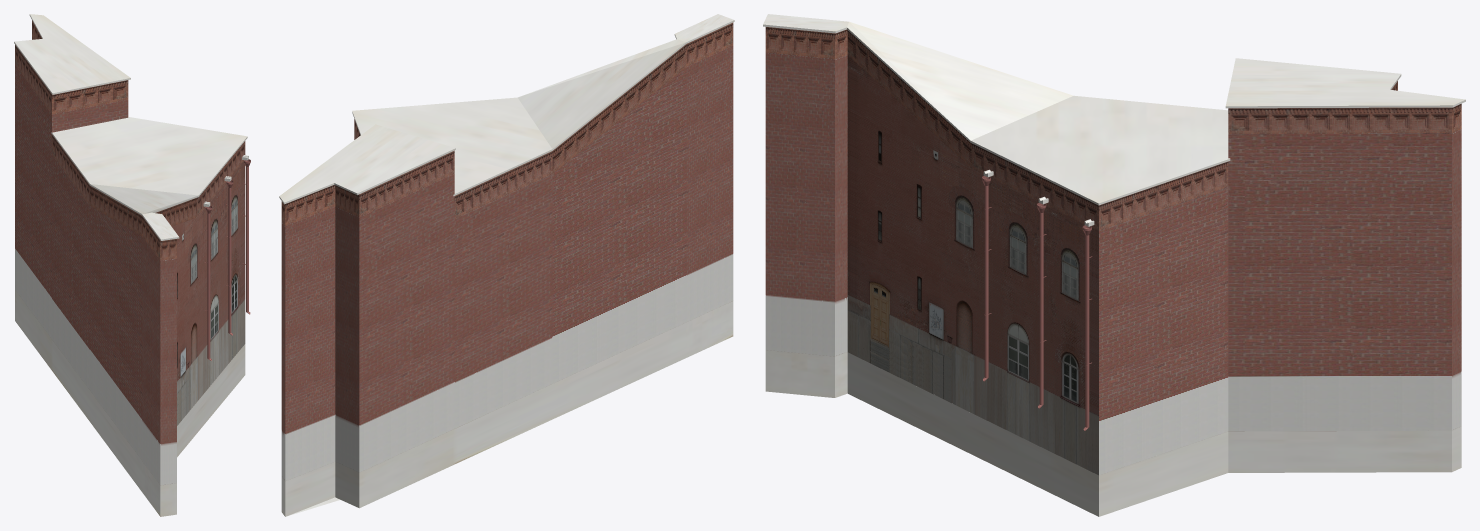
3 renders of one model, left to right at view 1: azimuth 30°, elevation 25°; view 2: azimuth 150°, elevation 25°; view 3: azimuth 270°, elevation 25°, orthographic. The views are drawn at different scales.
Parts seen in each view (by area): view 1: Group_060, Group_035, Group_018, Group_011, Group_002, Group_024, Group_020, Group_016, Group_008, Group_013, Group_017, Group_021 (+10 smaller); view 2: Group_011, Group_035, Group_024, Group_002, Group_018, Group_020, Group_021, Group_017, Group_016, Group_023, Group_008, Group_012 (+4 smaller); view 3: Group_011, Group_060, Group_014, Group_002, Group_018, Group_020, Group_021, Group_017, Group_016, Group_008, Group_012, Group_019 (+7 smaller).
Boxes of the visible parts, x1,y1,x2,y2 form: Group_060: (177, 161, 245, 425); Group_035: (90, 206, 141, 459); Group_018: (51, 117, 247, 196); Group_011: (15, 37, 128, 338); Group_002: (142, 236, 176, 485); Group_024: (52, 155, 89, 389); Group_020: (52, 340, 245, 491); Group_016: (14, 14, 130, 94); Group_008: (52, 134, 245, 216); Group_013: (32, 20, 128, 114); Group_017: (90, 184, 198, 215); Group_021: (15, 290, 51, 370); Group_011: (281, 174, 454, 481); Group_035: (552, 67, 686, 383); Group_024: (454, 174, 552, 428); Group_002: (686, 46, 733, 322); Group_018: (352, 97, 552, 196); Group_020: (454, 322, 686, 463); Group_021: (281, 429, 454, 516); Group_017: (517, 39, 686, 150); Group_016: (279, 124, 455, 204); Group_023: (552, 44, 686, 173); Group_008: (354, 119, 552, 218); Group_012: (359, 150, 454, 217); Group_011: (1228, 129, 1461, 431); Group_060: (847, 108, 1098, 475); Group_014: (1099, 187, 1228, 475); Group_002: (765, 53, 847, 356); Group_018: (970, 95, 1230, 205); Group_020: (847, 352, 1228, 516); Group_021: (1228, 426, 1461, 472); Group_017: (847, 21, 1073, 142); Group_016: (1225, 58, 1465, 108); Group_008: (972, 144, 1228, 230); Group_012: (1228, 107, 1451, 134); Group_019: (765, 350, 847, 397).
Size of the model in its own units: 14.13 by 17.73 by 30.72.
14 materials, 12 textured.
